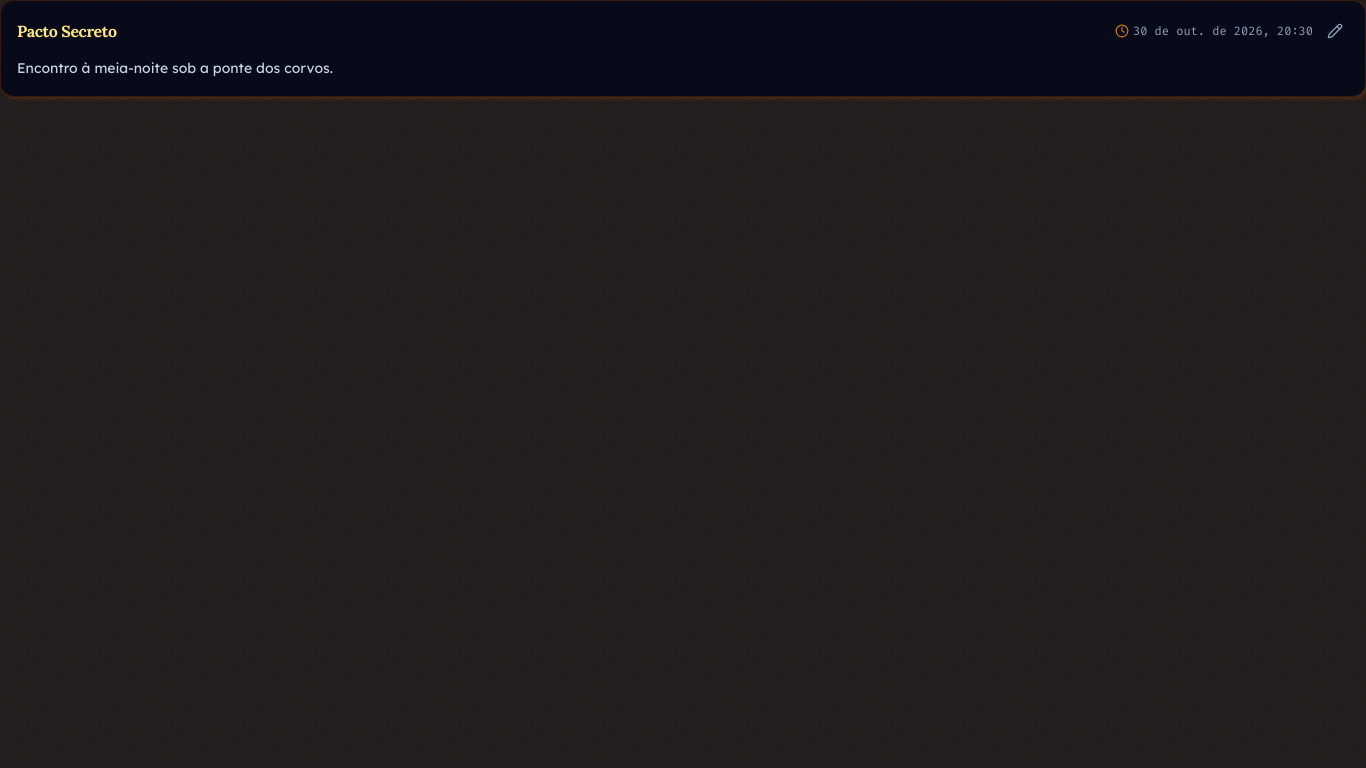
Test: Bug 2 & 3: Incremental Notes & SRD Translations › NoteCard Component › cancels edit mode on cancel button click without saving changes
The image size is (1366, 768).
Click the button named "Editar nota" at (1335, 31), box [1321,17,1349,45]
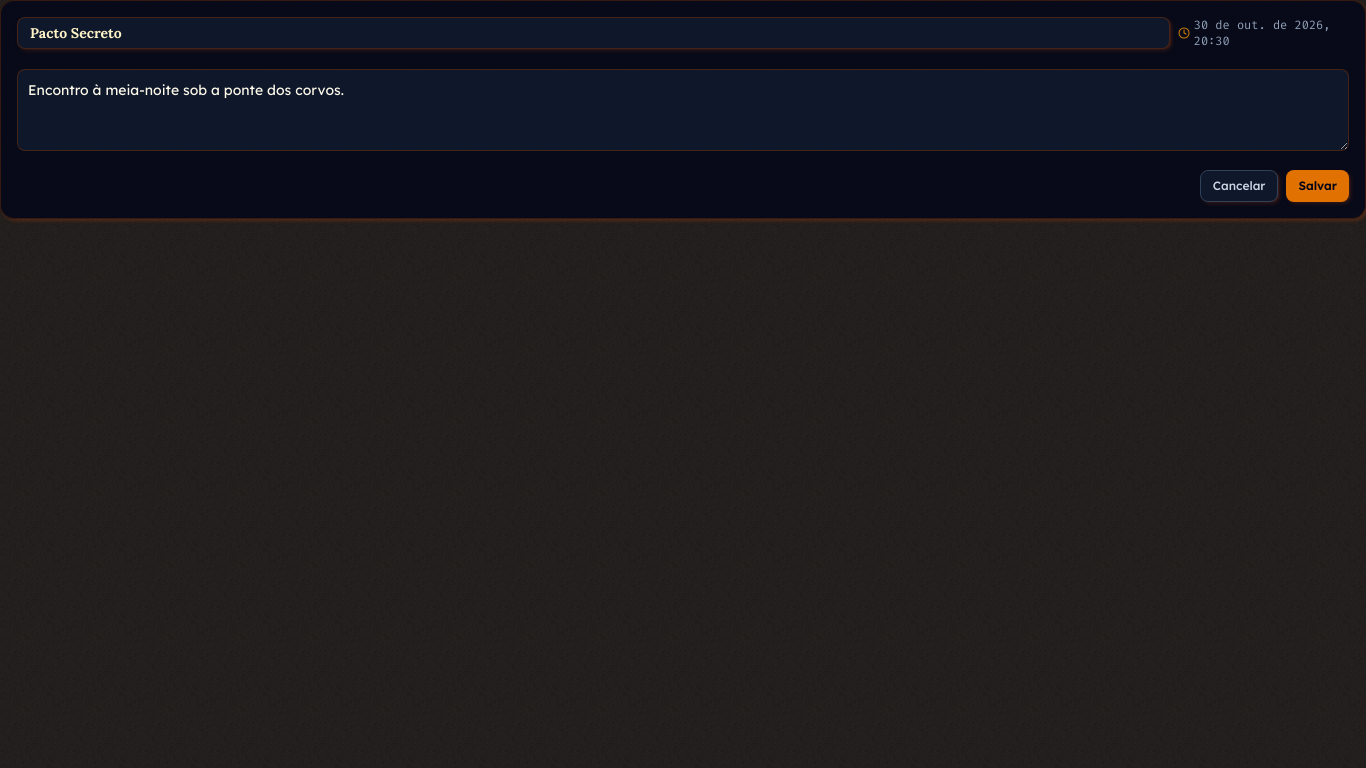
Replace the text in the field named "Título da nota editável" with "Título Provisório" at (593, 33), box [17,17,1170,49]
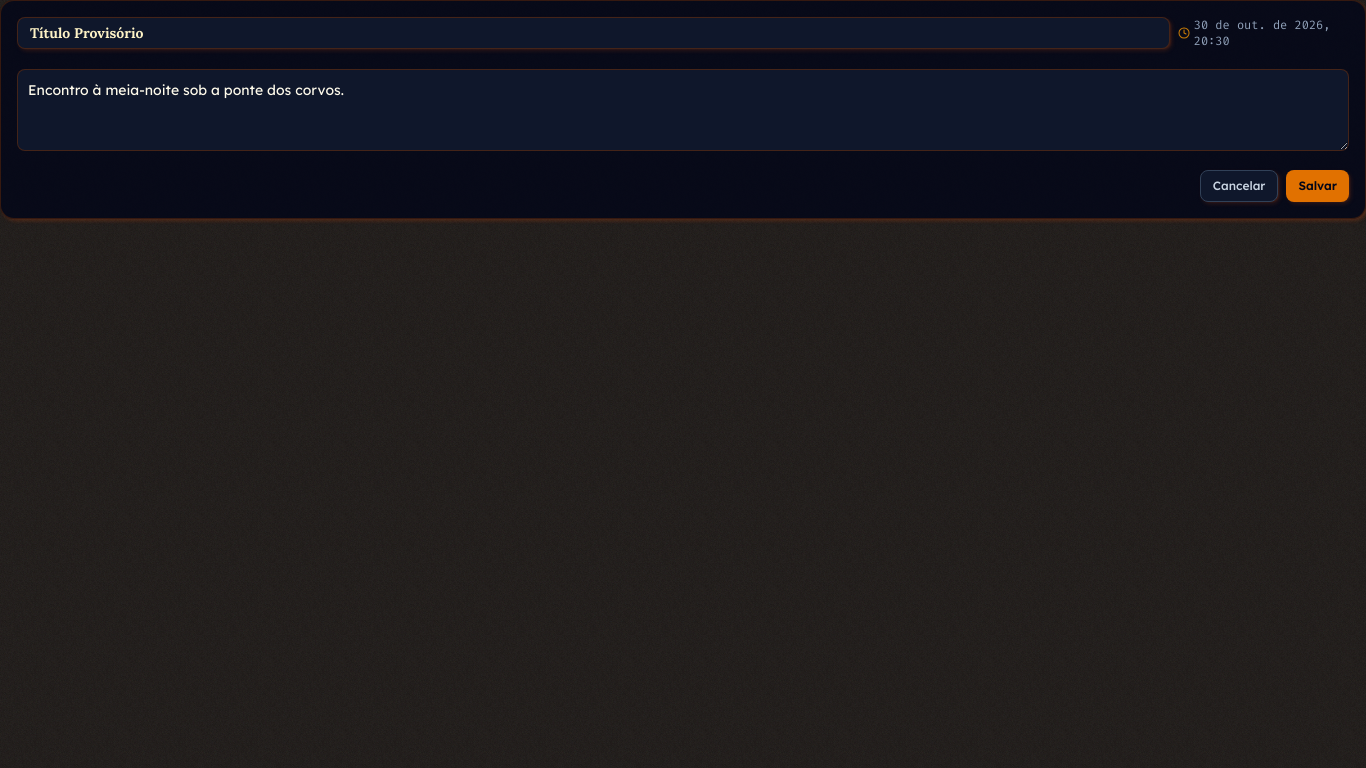
Click the button "Cancelar" at (1239, 186), box [1200,170,1278,202]
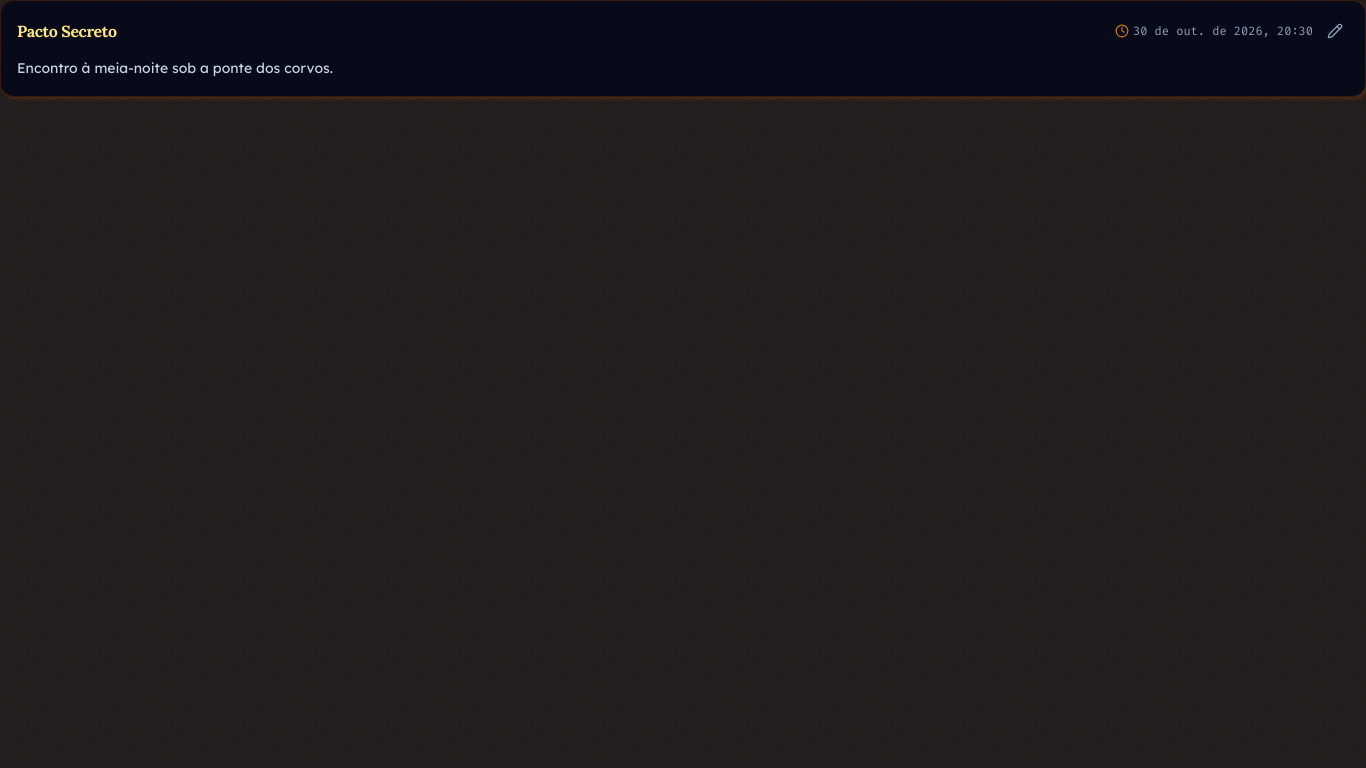
Now the text "Pacto Secreto" is shown, box [17,19,117,43]
